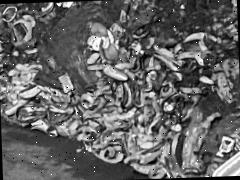organic: (82, 15, 122, 58), (89, 58, 130, 88), (92, 132, 124, 164)
